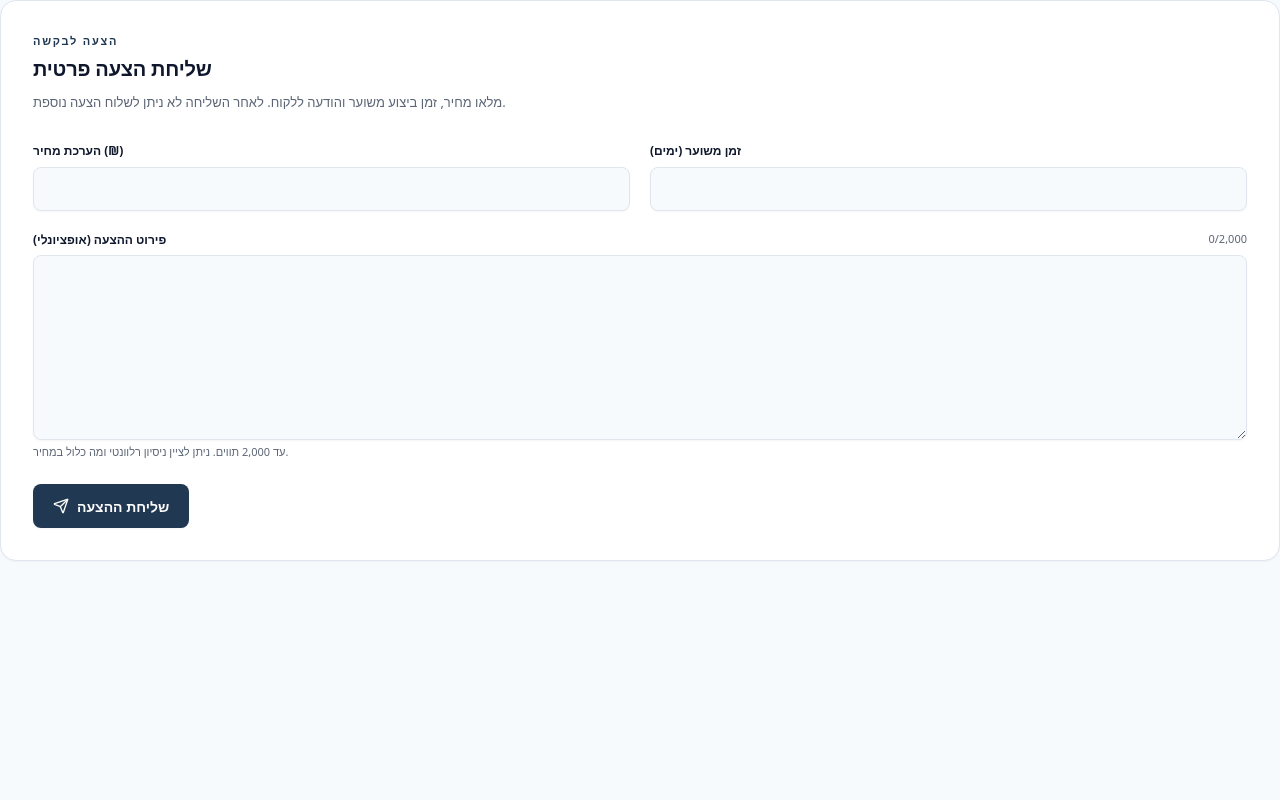
SupplierOfferPanel › does not submit an invalid price
Type "3" into the number field labelled "זמן משוער (ימים)" at (948, 189), box [650,167,1247,211]
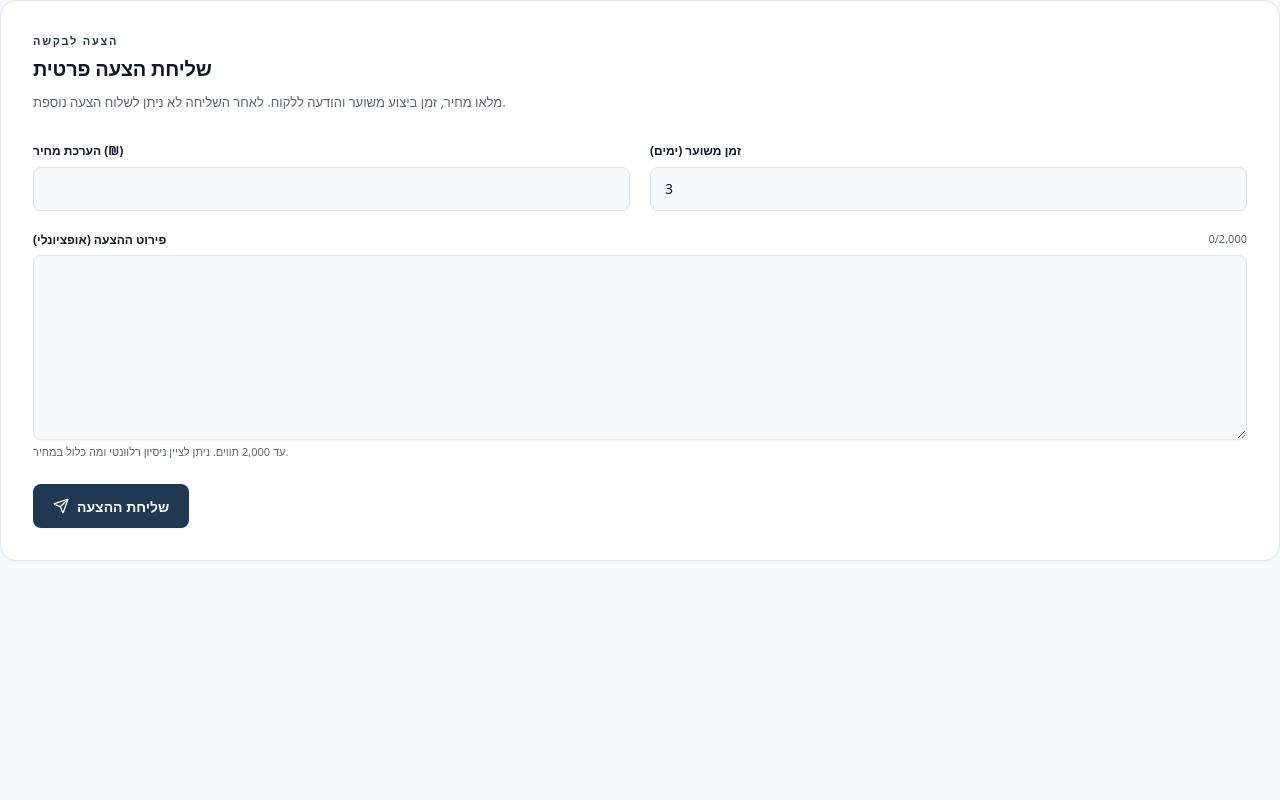
Type "פירוט מספק של ההצעה לביצוע העבודה המבוקשת." into the text box labelled "פירוט ההצעה (אופציונלי)" at (640, 347), box [33,255,1247,440]
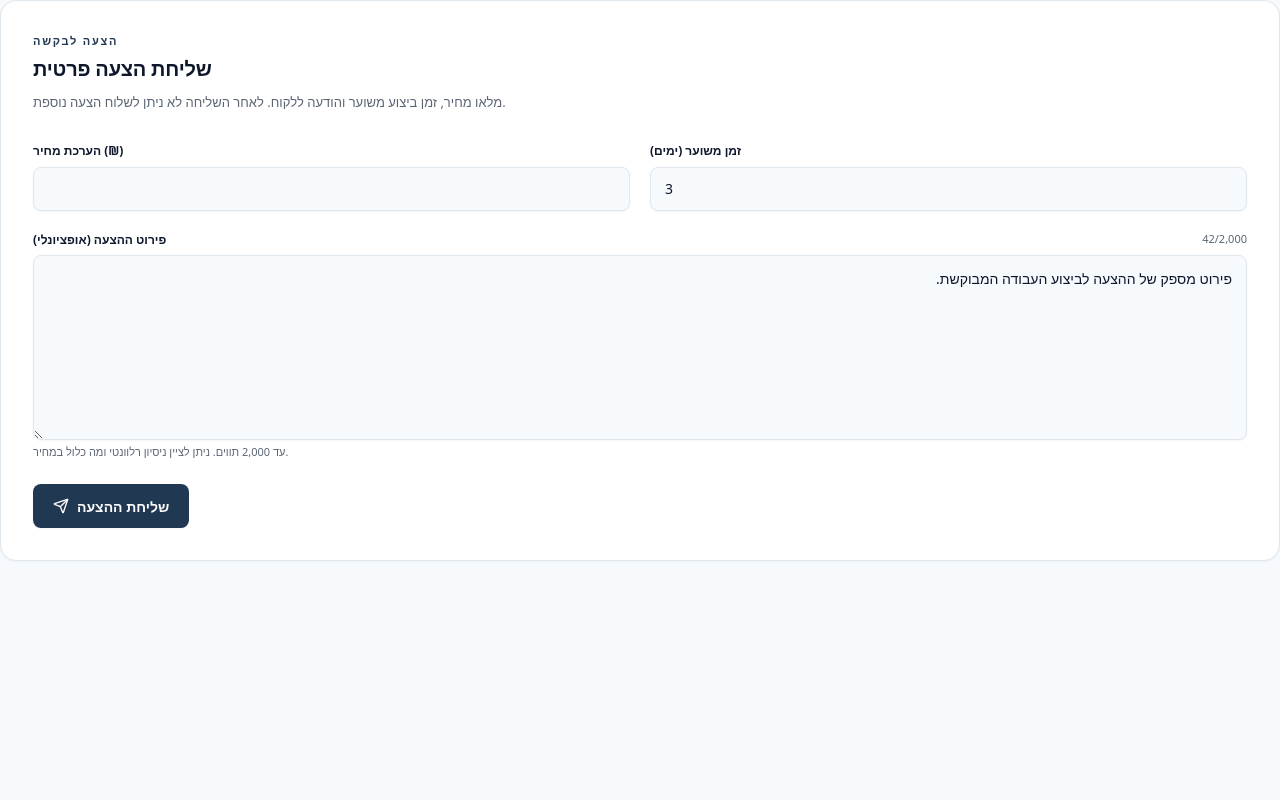
Click the button "שליחת ההצעה" at (111, 506), box [33,484,189,528]
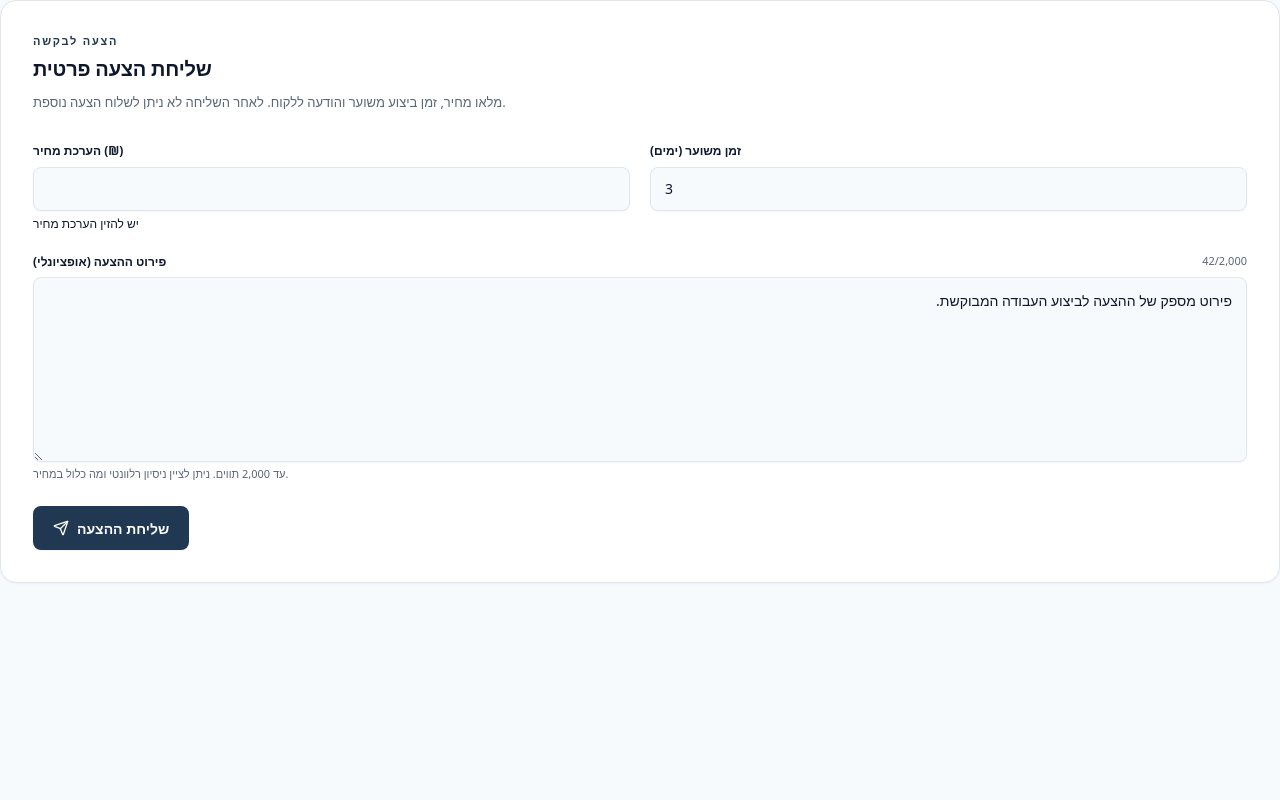
Now the text "יש להזין הערכת מחיר" is shown, box [33,215,139,232]
